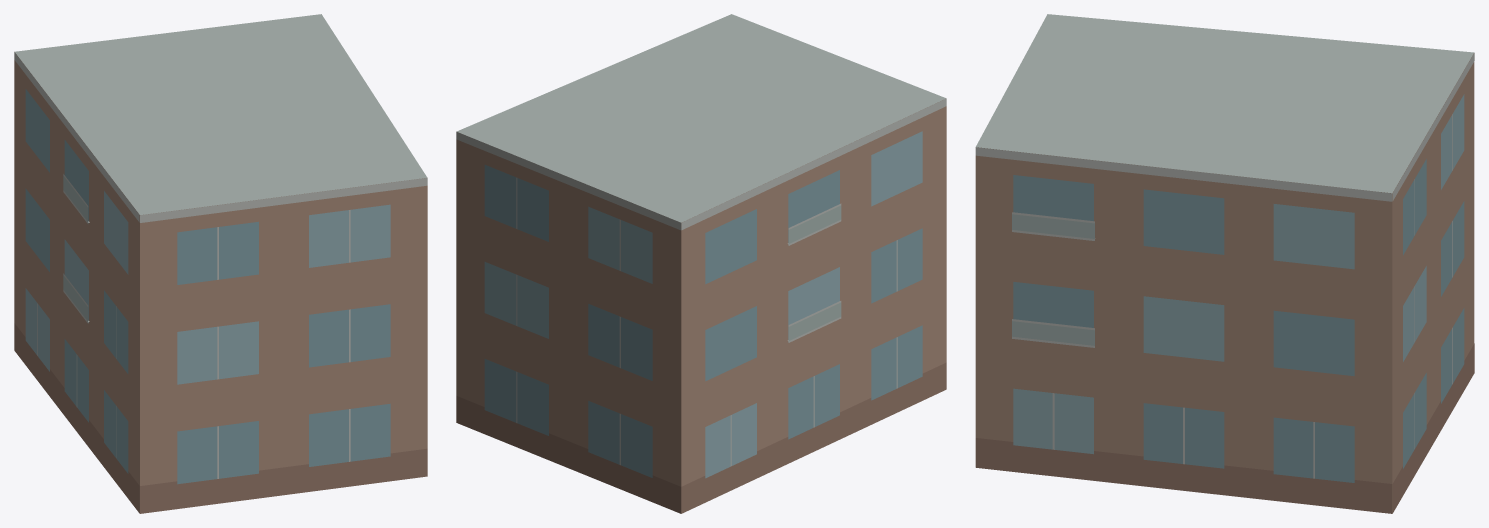
The model's file is survey-upis-32482841.glb.
The picture shows the model from 3 angles, left to right: view 1: azimuth 30°, elevation 25°; view 2: azimuth 150°, elevation 25°; view 3: azimuth 270°, elevation 25°; orthographic projection. The views are drawn at different scales.
Visible parts, largest first — view 1: survey-upis-32482841.tmp; view 2: survey-upis-32482841.tmp; view 3: survey-upis-32482841.tmp.
Part boxes in pixels (left/top/right/bottom): survey-upis-32482841.tmp: left=14, top=14, right=427, bottom=513; survey-upis-32482841.tmp: left=456, top=14, right=946, bottom=513; survey-upis-32482841.tmp: left=975, top=14, right=1474, bottom=513.
Bounding box in the file's own units: 10.98 × 9.15 × 12.91.
